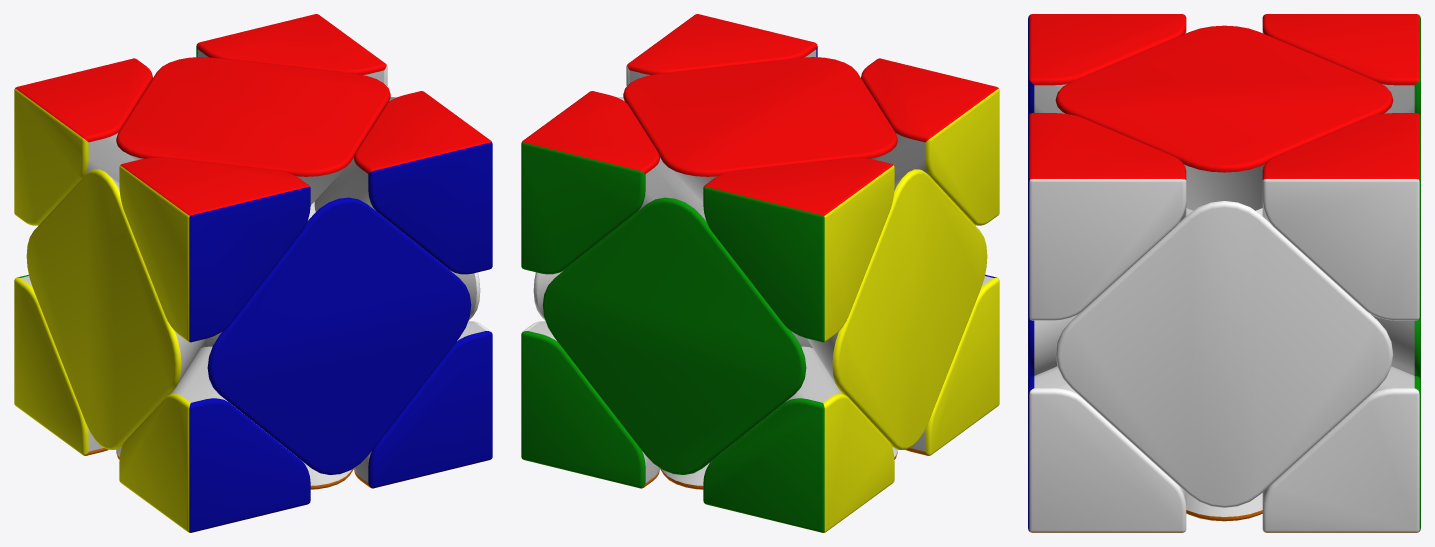
The model's file is skewb.glb.
3 renders of one model, left to right at view 1: azimuth 30°, elevation 25°; view 2: azimuth 150°, elevation 25°; view 3: azimuth 270°, elevation 25°, orthographic. The views are drawn at different scales.
Parts seen in each view (by area): view 1: Center.Piece.004, Center.Piece.001, Center.Piece.005, Corner.Piece.004, Corner.Piece.008, Corner.Piece.003, Corner.Piece.002, Corner.Piece.007, Corner.Piece.006, Corner.Piece.001, Center.Piece.006, Center.Piece.002; view 2: Center.Piece.003, Center.Piece.001, Center.Piece.005, Corner.Piece.002, Corner.Piece.006, Corner.Piece.001, Corner.Piece.004, Corner.Piece.005, Corner.Piece.008, Corner.Piece.003, Center.Piece.006, Center.Piece.002; view 3: Center.Piece.002, Center.Piece.005, Corner.Piece.001, Corner.Piece.003, Corner.Piece.005, Corner.Piece.007, Corner.Piece.002, Corner.Piece.004, Center.Piece.003, Center.Piece.004, Center.Piece.006.
Part boxes in pixels (x1,y1,x2,y2): Center.Piece.004: (207,197,471,474); Center.Piece.001: (26,169,206,449); Center.Piece.005: (116,57,390,205); Corner.Piece.004: (119,157,310,342); Corner.Piece.008: (119,346,310,532); Corner.Piece.003: (314,91,492,274); Corner.Piece.002: (14,58,152,225); Corner.Piece.007: (353,321,492,488); Corner.Piece.006: (14,274,107,455); Corner.Piece.001: (196,14,387,86); Center.Piece.006: (116,447,353,489); Center.Piece.002: (389,97,480,320); Center.Piece.003: (542,197,806,474); Center.Piece.001: (807,169,987,449); Center.Piece.005: (623,57,897,205); Corner.Piece.002: (703,157,894,342); Corner.Piece.006: (703,346,894,532); Corner.Piece.001: (521,91,699,274); Corner.Piece.004: (861,58,999,225); Corner.Piece.005: (521,321,660,488); Corner.Piece.008: (906,274,999,455); Corner.Piece.003: (626,14,817,86); Center.Piece.006: (660,447,897,489); Center.Piece.002: (533,97,624,320); Center.Piece.002: (1055,201,1393,507); Center.Piece.005: (1055,25,1393,210); Corner.Piece.001: (1262,113,1420,320); Corner.Piece.003: (1028,113,1186,320); Corner.Piece.005: (1262,366,1420,532); Corner.Piece.007: (1028,366,1186,532); Corner.Piece.002: (1262,14,1420,116); Corner.Piece.004: (1028,14,1186,116); Center.Piece.003: (1371,314,1420,379); Center.Piece.004: (1028,314,1077,379); Center.Piece.006: (1186,493,1262,521).
Size of the model in its own units: 3.1 by 3.1 by 3.1.
